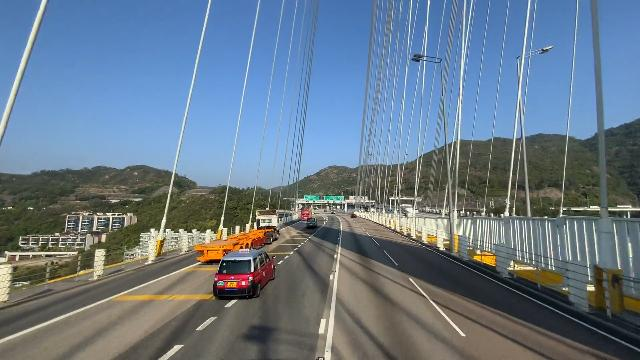bus: (301, 206, 311, 220)
car: (212, 245, 274, 304), (306, 217, 318, 229), (350, 213, 357, 219), (331, 211, 335, 215)
truck: (195, 208, 283, 262)
